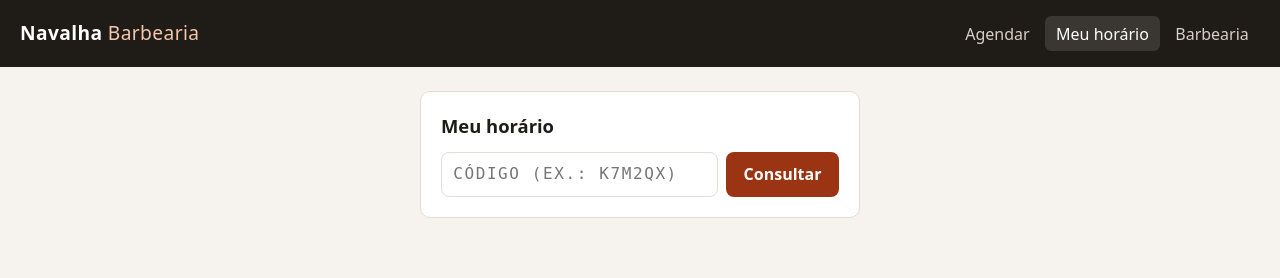
Test case: meu horário › código errado mostra o erro da API
This screenshot has width=1280, height=278.
In the field named "Código do agendamento": (580,174) top-left (441, 152), bottom-right (718, 197), type "XXXXXX"
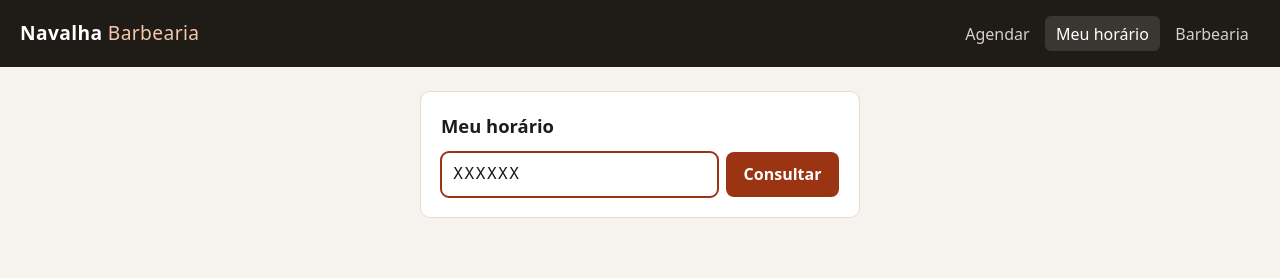
Click the button "Consultar": (782,174) top-left (726, 152), bottom-right (839, 197)
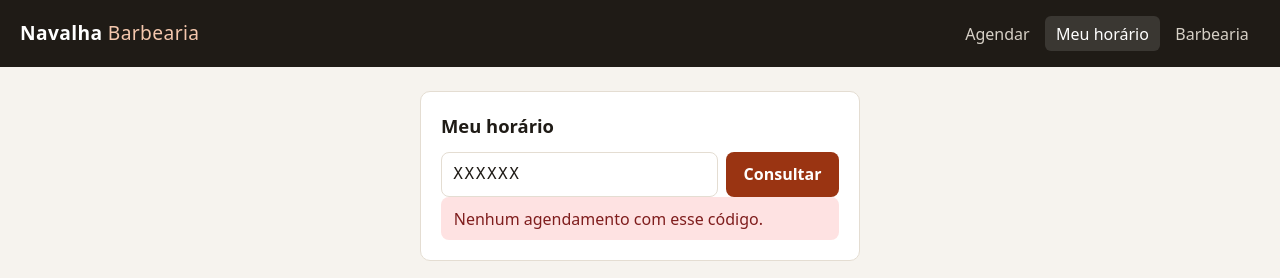
Expected: the message reads "Nenhum agendamento com esse código.", top-left (454, 208), bottom-right (763, 230)
